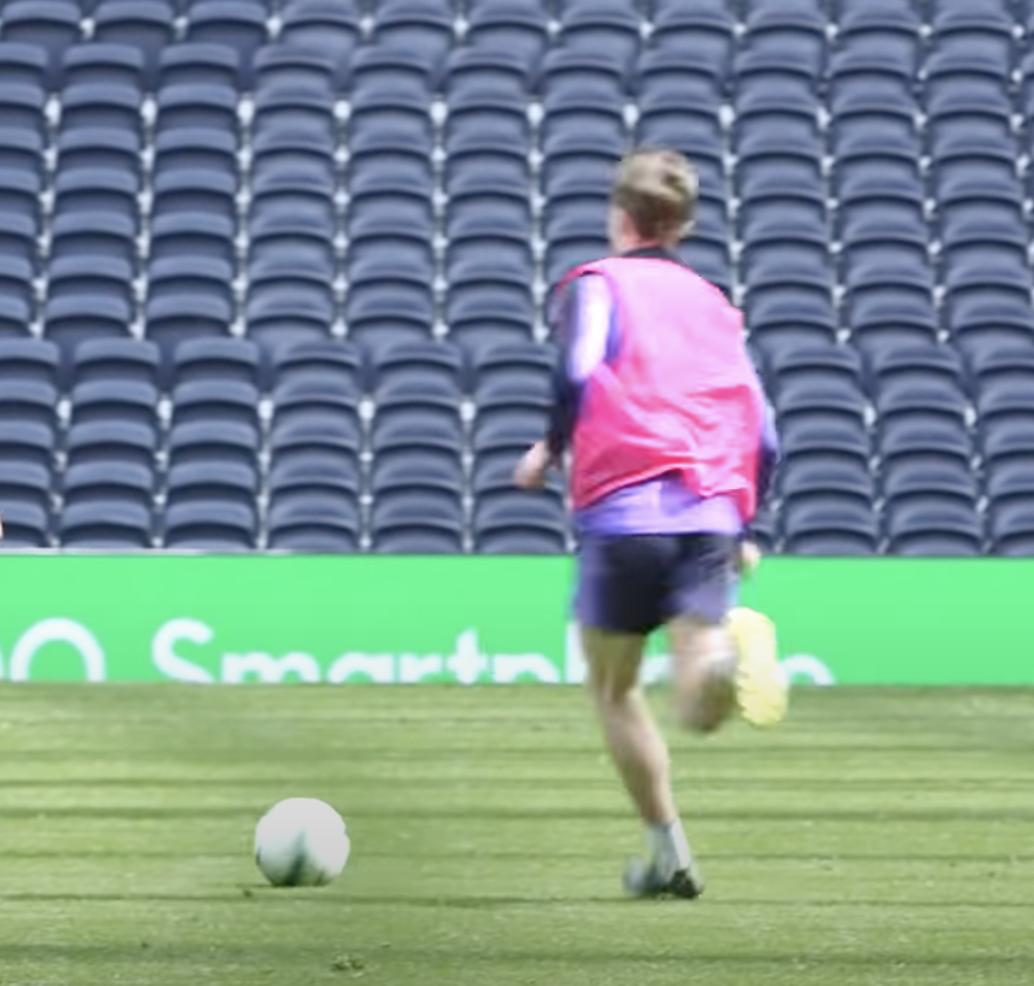ball: (256, 798, 347, 887)
foot: (727, 605, 787, 729), (622, 853, 702, 901)
person: (511, 153, 786, 897)
